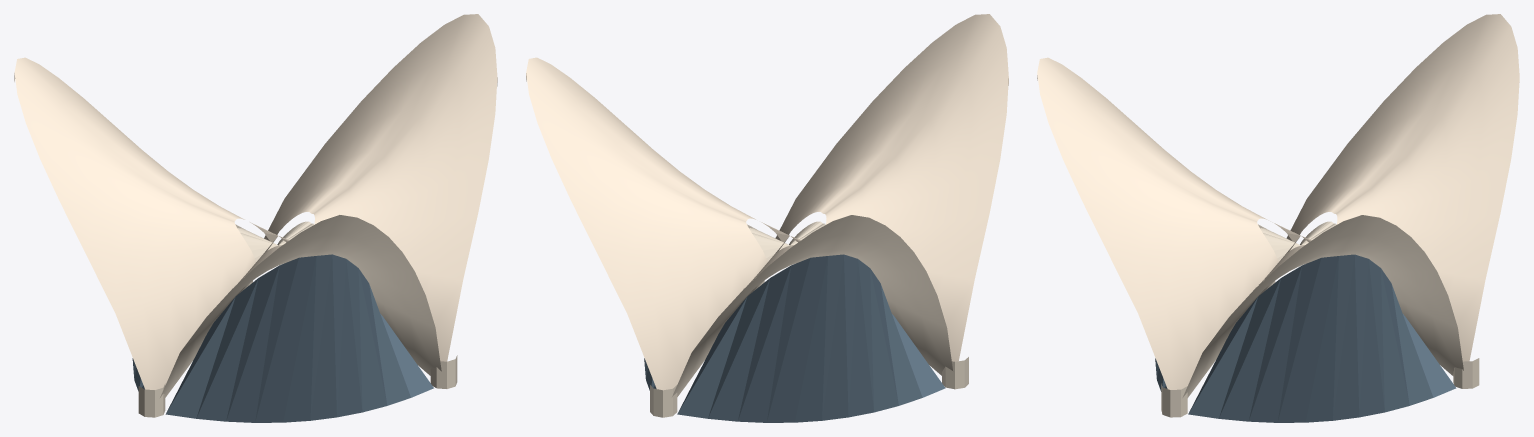
3 views of the same model, side by side, from view 1: azimuth 30°, elevation 25°; view 2: azimuth 150°, elevation 25°; view 3: azimuth 270°, elevation 25° (orthographic).
Visible parts, largest first — view 1: neon-museum-la-concha-lobby; view 2: neon-museum-la-concha-lobby; view 3: neon-museum-la-concha-lobby.
Boxes of the visible parts, x1=… form: neon-museum-la-concha-lobby: x1=14, y1=14, x2=497, y2=422; neon-museum-la-concha-lobby: x1=526, y1=14, x2=1008, y2=422; neon-museum-la-concha-lobby: x1=1037, y1=14, x2=1519, y2=422.
Size of the model in its own units: 15.73 by 9.8 by 15.91.
